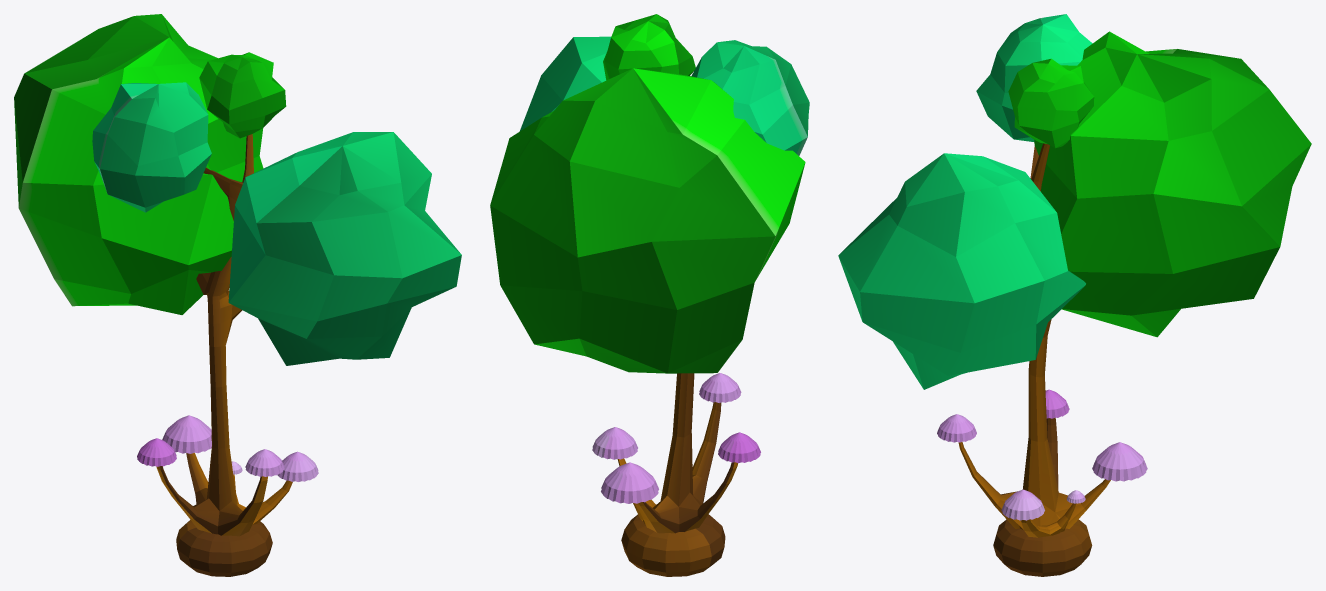
The model's file is Tree3.fbx.
The picture shows the model from 3 angles, left to right: view 1: azimuth 30°, elevation 25°; view 2: azimuth 150°, elevation 25°; view 3: azimuth 270°, elevation 25°; orthographic projection. The views are drawn at different scales.
Visible parts, largest first — view 1: Sphere.001, Sphere.003, Sphere.002, Cube.002, Sphere, Torus, Cone.001, Cone.003, Cone, Cone.004; view 2: Sphere.001, Sphere.002, Cube.002, Torus, Sphere, Sphere.003, Cone.001, Cone.003, Cone, Cone.004; view 3: Sphere.001, Sphere.003, Cube.002, Sphere.002, Sphere, Torus, Cone.001, Cone.003, Cone.004.
Part boxes in pixels (box(x1,y1,x2,y2)): Sphere.001: box(14, 14, 263, 314); Sphere.003: box(228, 132, 461, 365); Sphere.002: box(92, 82, 211, 212); Cube.002: box(156, 134, 292, 536); Sphere: box(199, 52, 286, 138); Torus: box(176, 520, 272, 576); Cone.001: box(162, 415, 211, 453); Cone.003: box(277, 451, 318, 481); Cone: box(137, 438, 176, 466); Cone.004: box(245, 449, 284, 476); Sphere.001: box(490, 68, 805, 373); Sphere.002: box(691, 40, 809, 155); Cube.002: box(617, 373, 737, 533); Torus: box(621, 514, 725, 576); Sphere: box(603, 14, 695, 80); Sphere.003: box(519, 36, 690, 131); Cone.001: box(601, 462, 658, 503); Cone.003: box(592, 427, 637, 459); Cone: box(718, 432, 760, 463); Cone.004: box(699, 373, 741, 402); Sphere.001: box(1034, 31, 1311, 337); Sphere.003: box(838, 153, 1085, 389); Cube.002: box(958, 143, 1110, 537); Sphere.002: box(976, 14, 1092, 141); Sphere: box(1008, 58, 1094, 148); Torus: box(993, 519, 1092, 576); Cone.001: box(1092, 442, 1147, 481); Cone.003: box(1001, 489, 1044, 520); Cone.004: box(937, 414, 976, 442).
Size of the model in its own units: 1260 by 1910 by 1605.
2 materials, 2 textured.
